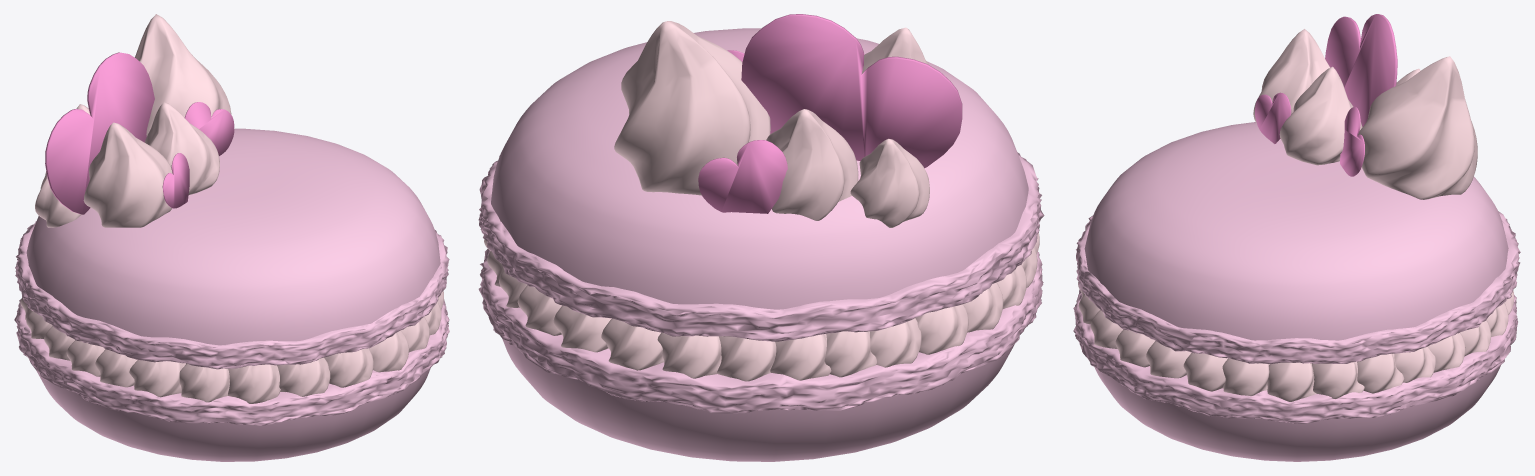
File: macaron.fbx
The picture shows the model from 3 angles, left to right: view 1: azimuth 30°, elevation 25°; view 2: azimuth 150°, elevation 25°; view 3: azimuth 270°, elevation 25°; orthographic projection. The views are drawn at different scales.
Visible parts, largest first — view 1: macaron; view 2: macaron; view 3: macaron.
Part boxes in pixels (left/top/right/bottom): macaron: left=14, top=14, right=449, bottom=461; macaron: left=478, top=14, right=1044, bottom=461; macaron: left=1073, top=14, right=1520, bottom=461.
Bounding box in the file's own units: 231 × 202 × 232.
